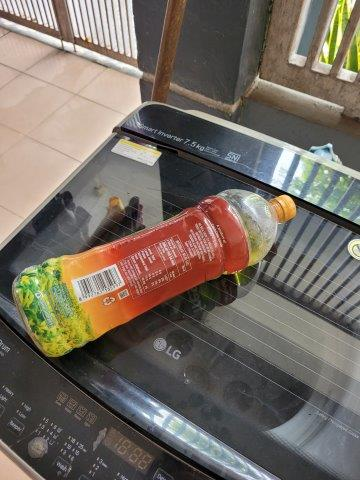botolplastik: (16, 187, 294, 358)
